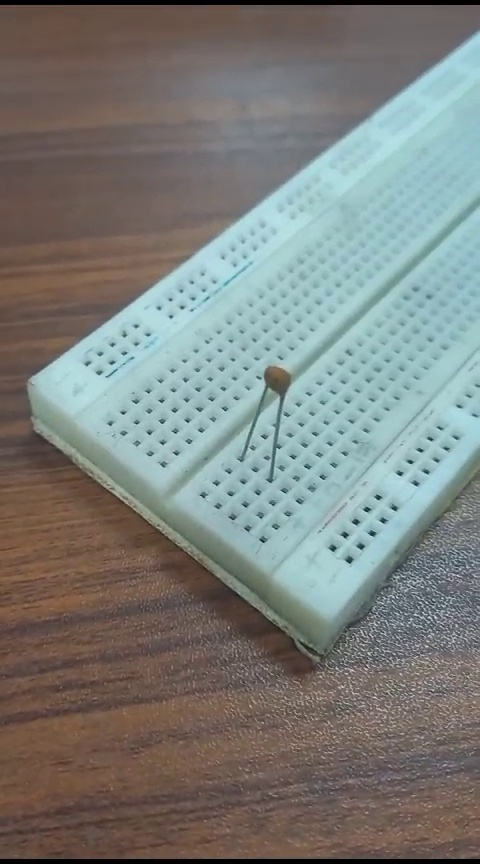ceramic capacitor: (256, 351, 306, 479)
